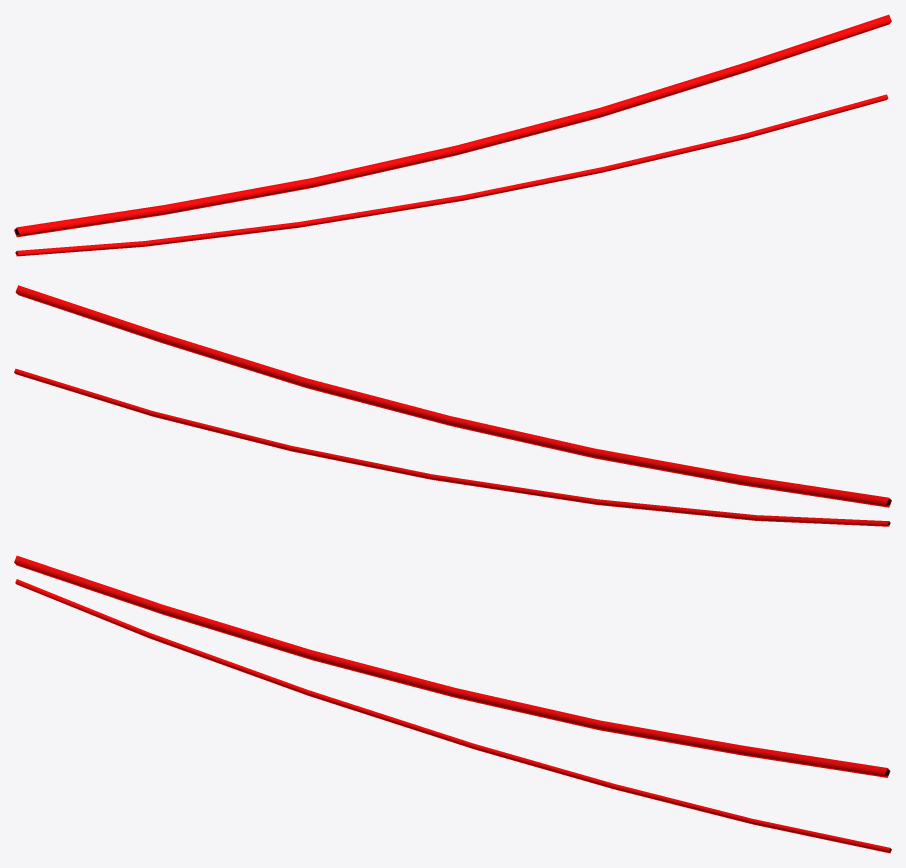
The model's file is Cable_03.FBX.
3 views of the same model, one above another, from view 1: azimuth 30°, elevation 25°; view 2: azimuth 150°, elevation 25°; view 3: azimuth 330°, elevation 25° (orthographic).
Visible parts, largest first — view 1: Cable_03_COL; view 2: Cable_03_COL; view 3: Cable_03_COL.
Part boxes in pixels (x1,y1,x2,y2): Cable_03_COL: [14, 14, 891, 256]; Cable_03_COL: [14, 285, 891, 526]; Cable_03_COL: [14, 555, 891, 853].
Size of the model in its own units: 1768 by 182 by 35.89.
